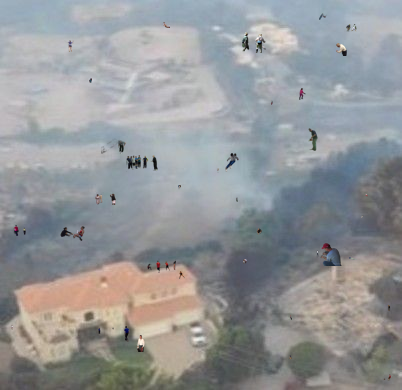Human: (126, 155, 158, 172), (98, 326, 130, 342), (320, 243, 342, 266), (242, 32, 266, 53), (147, 258, 176, 275), (101, 138, 126, 154), (60, 226, 85, 241), (292, 321, 325, 332), (225, 153, 239, 172), (95, 193, 116, 205), (308, 128, 318, 151), (336, 43, 347, 56), (13, 225, 26, 236), (137, 335, 145, 352), (65, 40, 74, 52), (346, 24, 357, 32), (299, 88, 306, 100), (381, 374, 391, 381), (319, 13, 327, 20), (179, 271, 185, 279), (256, 228, 262, 235), (163, 22, 170, 28), (349, 257, 357, 260), (316, 250, 319, 258), (243, 259, 247, 264), (178, 185, 181, 191), (89, 78, 92, 83), (361, 214, 364, 218), (289, 355, 292, 359), (388, 305, 390, 311), (365, 193, 368, 197), (11, 325, 13, 330), (217, 168, 219, 173), (100, 284, 102, 289), (236, 197, 238, 202), (271, 100, 273, 105), (290, 315, 292, 320)
